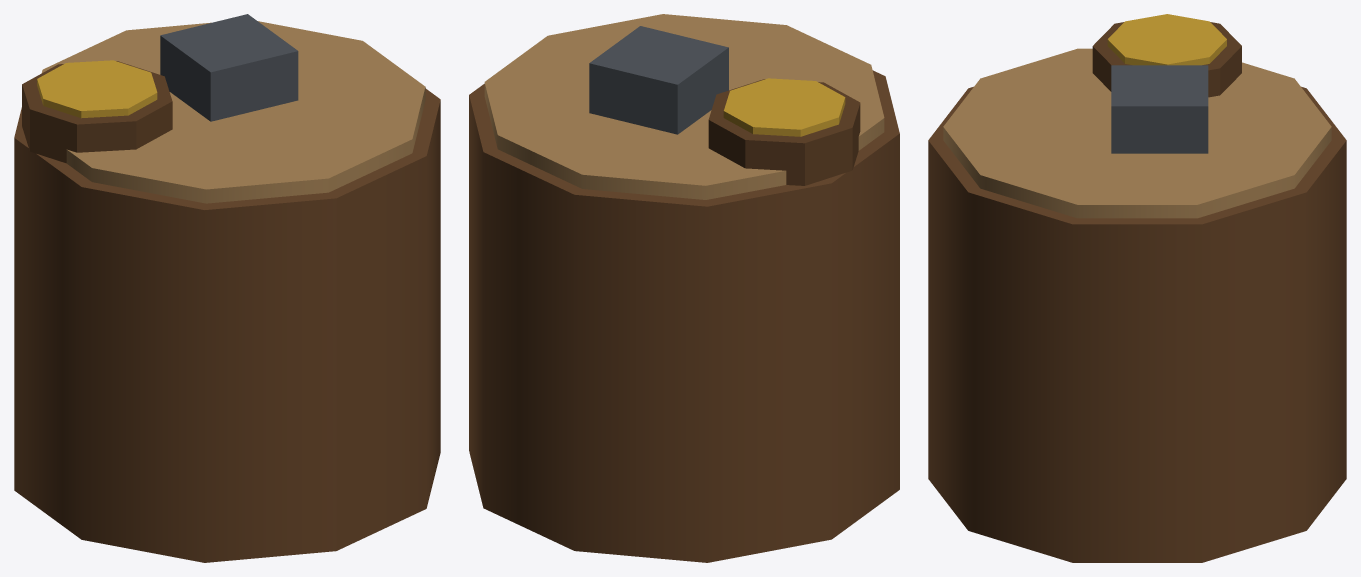
Rendered from ind_stump.glb.
3 renders of one model, left to right at view 1: azimuth 30°, elevation 25°; view 2: azimuth 150°, elevation 25°; view 3: azimuth 270°, elevation 25°, orthographic. The views are drawn at different scales.
Visible parts, largest first — view 1: ind_stump; view 2: ind_stump; view 3: ind_stump.
Boxes of the visible parts, x1,y1,x2,y2 form: ind_stump: [14, 14, 440, 562]; ind_stump: [469, 14, 899, 562]; ind_stump: [928, 14, 1346, 562].
Bounding box in the file's own units: 0.1073 × 0.118 × 0.112.
